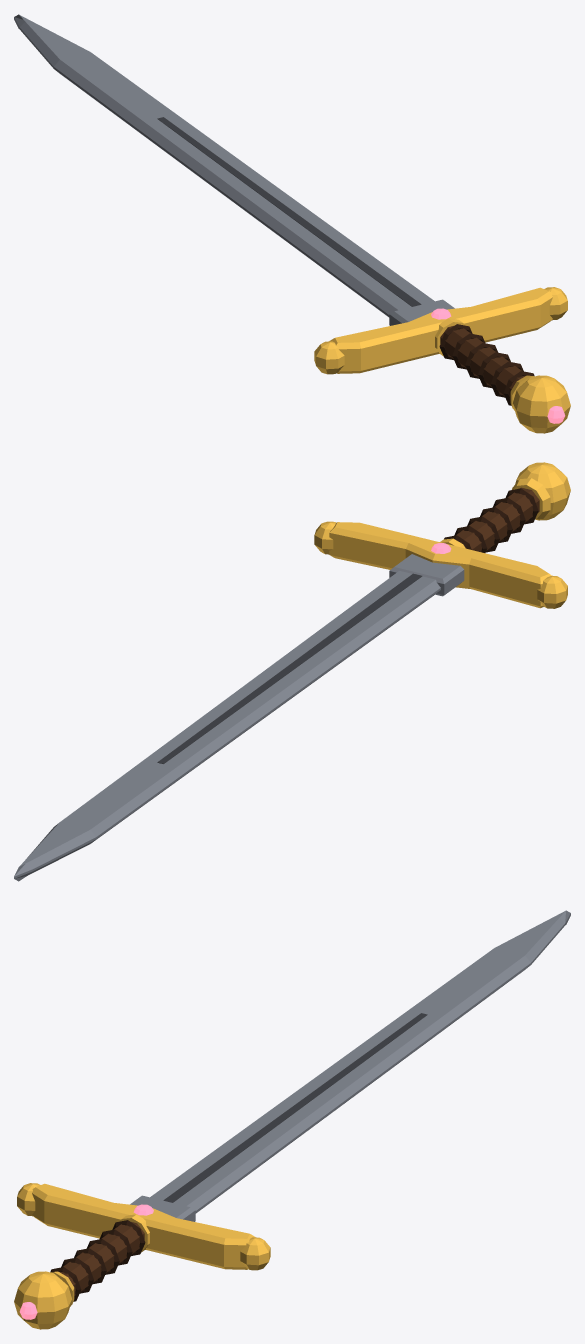
File: sword.glb
3 views of the same model, one above another, from view 1: azimuth 30°, elevation 25°; view 2: azimuth 150°, elevation 25°; view 3: azimuth 330°, elevation 25° (orthographic).
Visible parts, largest first — view 1: body; view 2: body; view 3: body.
Boxes of the visible parts, x1,y1,x2,y2 form: body: (14, 14, 570, 433); body: (14, 462, 570, 881); body: (14, 910, 570, 1329).
Size of the model in its own units: 0.2366 by 0.048 by 0.896.
